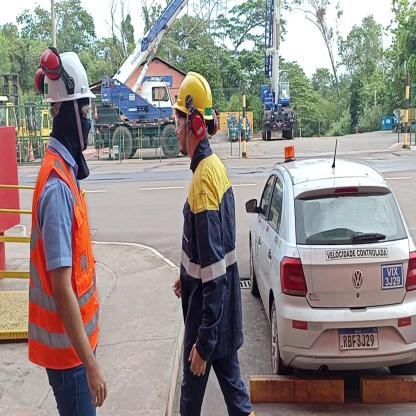Balaclava: (52, 103, 92, 151)
C_eletrica: (179, 166, 244, 355)
Capacete: (38, 49, 98, 101), (170, 71, 218, 116)
colete: (30, 158, 100, 366)
